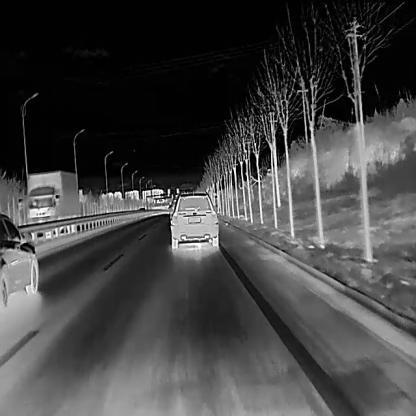car: (25, 169, 79, 241), (0, 212, 38, 307), (169, 189, 219, 251)
